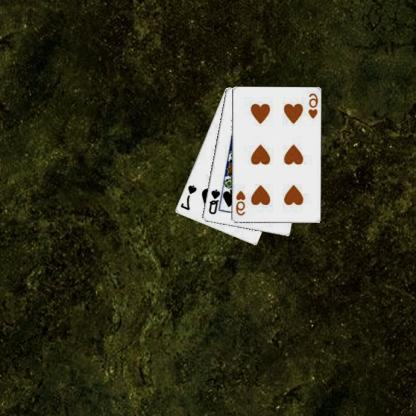6H: (234, 188, 248, 217), (307, 91, 321, 120)
7S: (180, 182, 200, 212)
QS: (208, 187, 223, 216)
